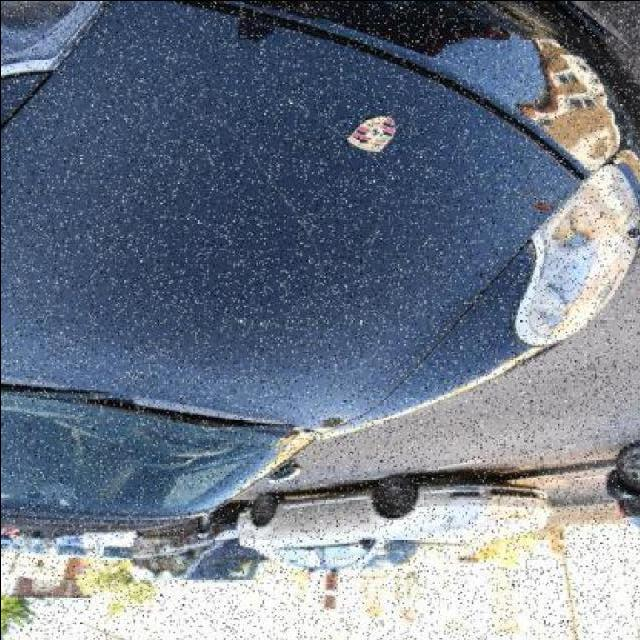bonnet-dent: (39, 46, 580, 414)
